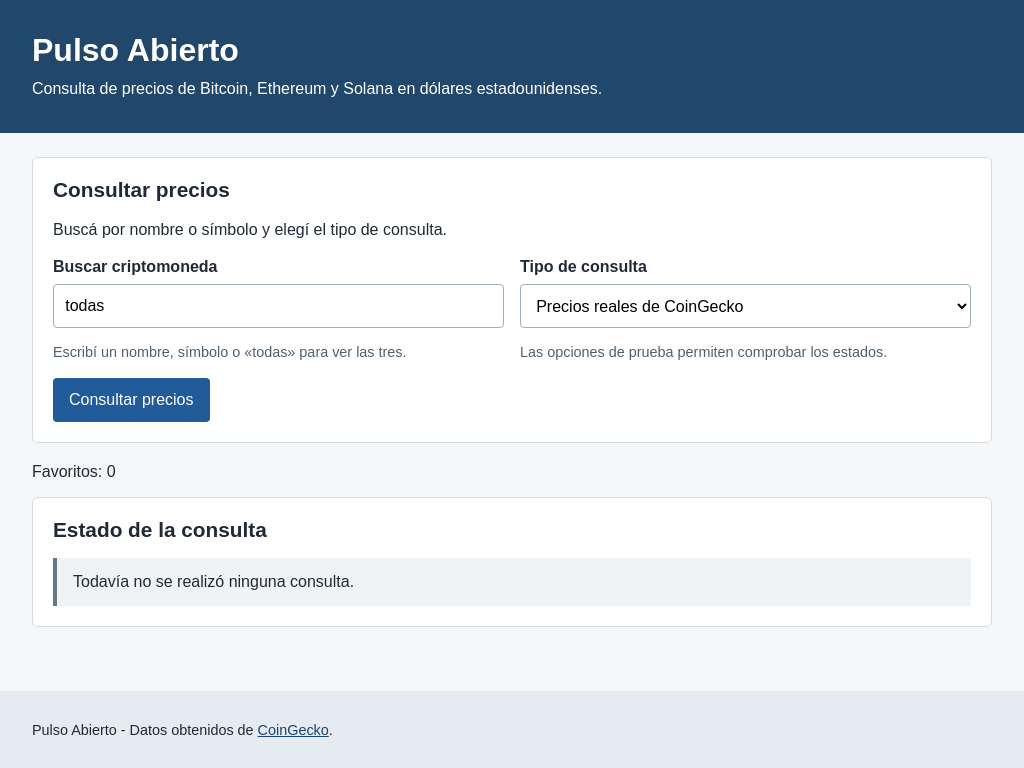
Test case: consulta de precios › muestra ausencia de datos cuando la API devuelve una respuesta vacía
This screenshot has width=1024, height=768.
Click the button "Consultar precios" at [131, 400], box [53, 378, 210, 422]
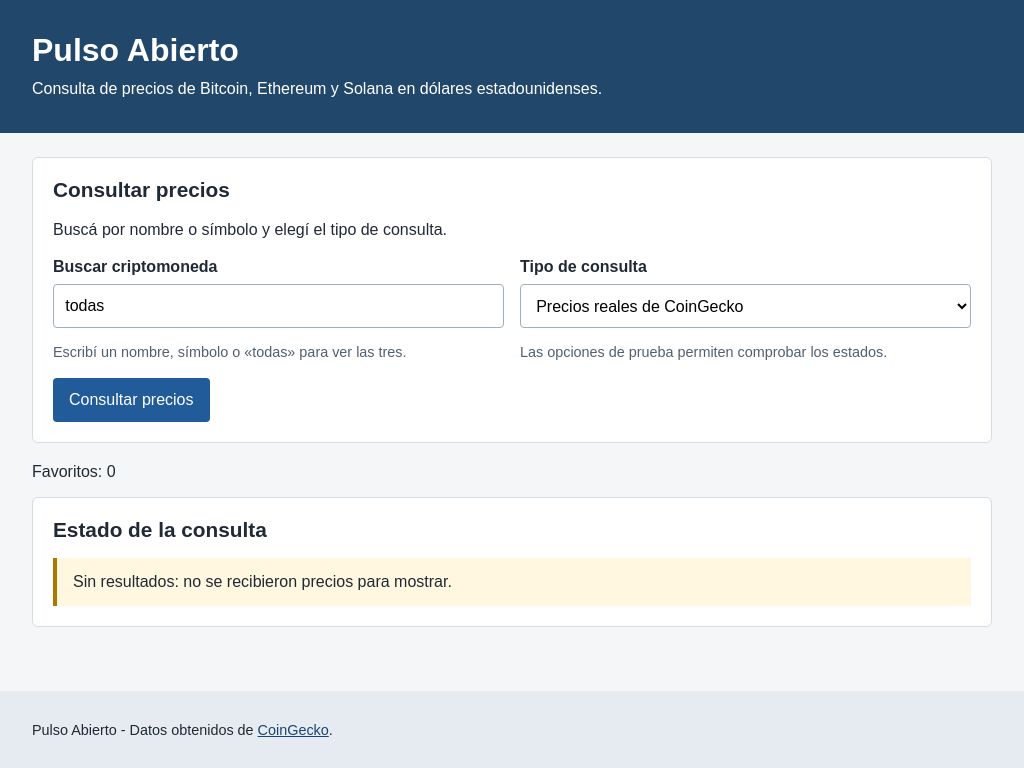
Expected: the text "Sin resultados: no se recibieron precios para mostrar." is shown, [73, 573, 452, 590]
